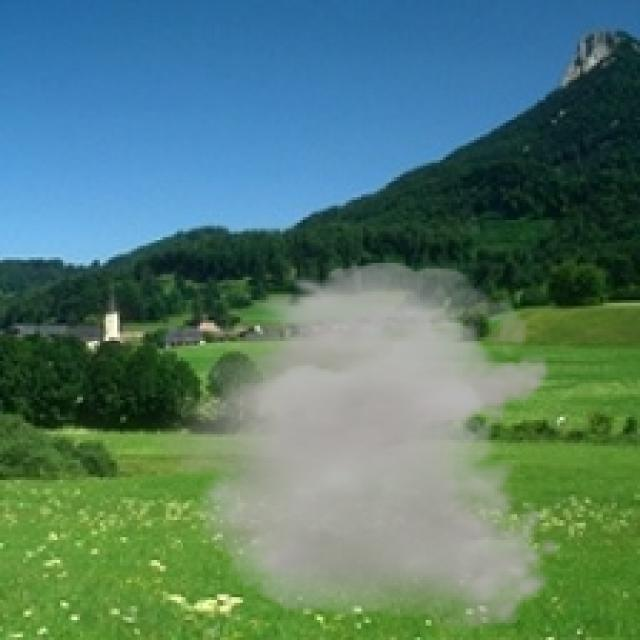Smoke: (143, 263, 563, 632)
